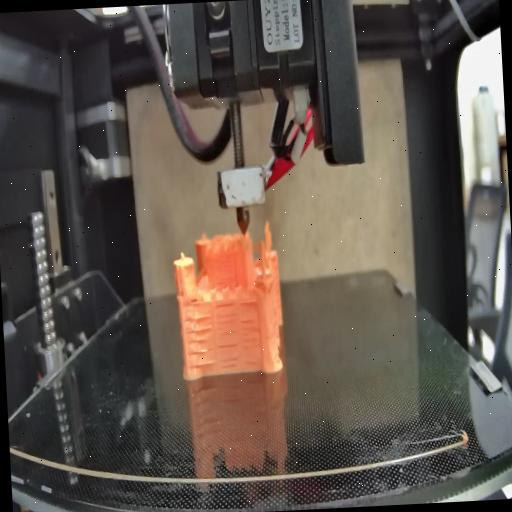cracks: (183, 312, 216, 368), (240, 317, 262, 362), (215, 302, 241, 338), (218, 342, 242, 368), (190, 298, 206, 306), (241, 300, 256, 308)
